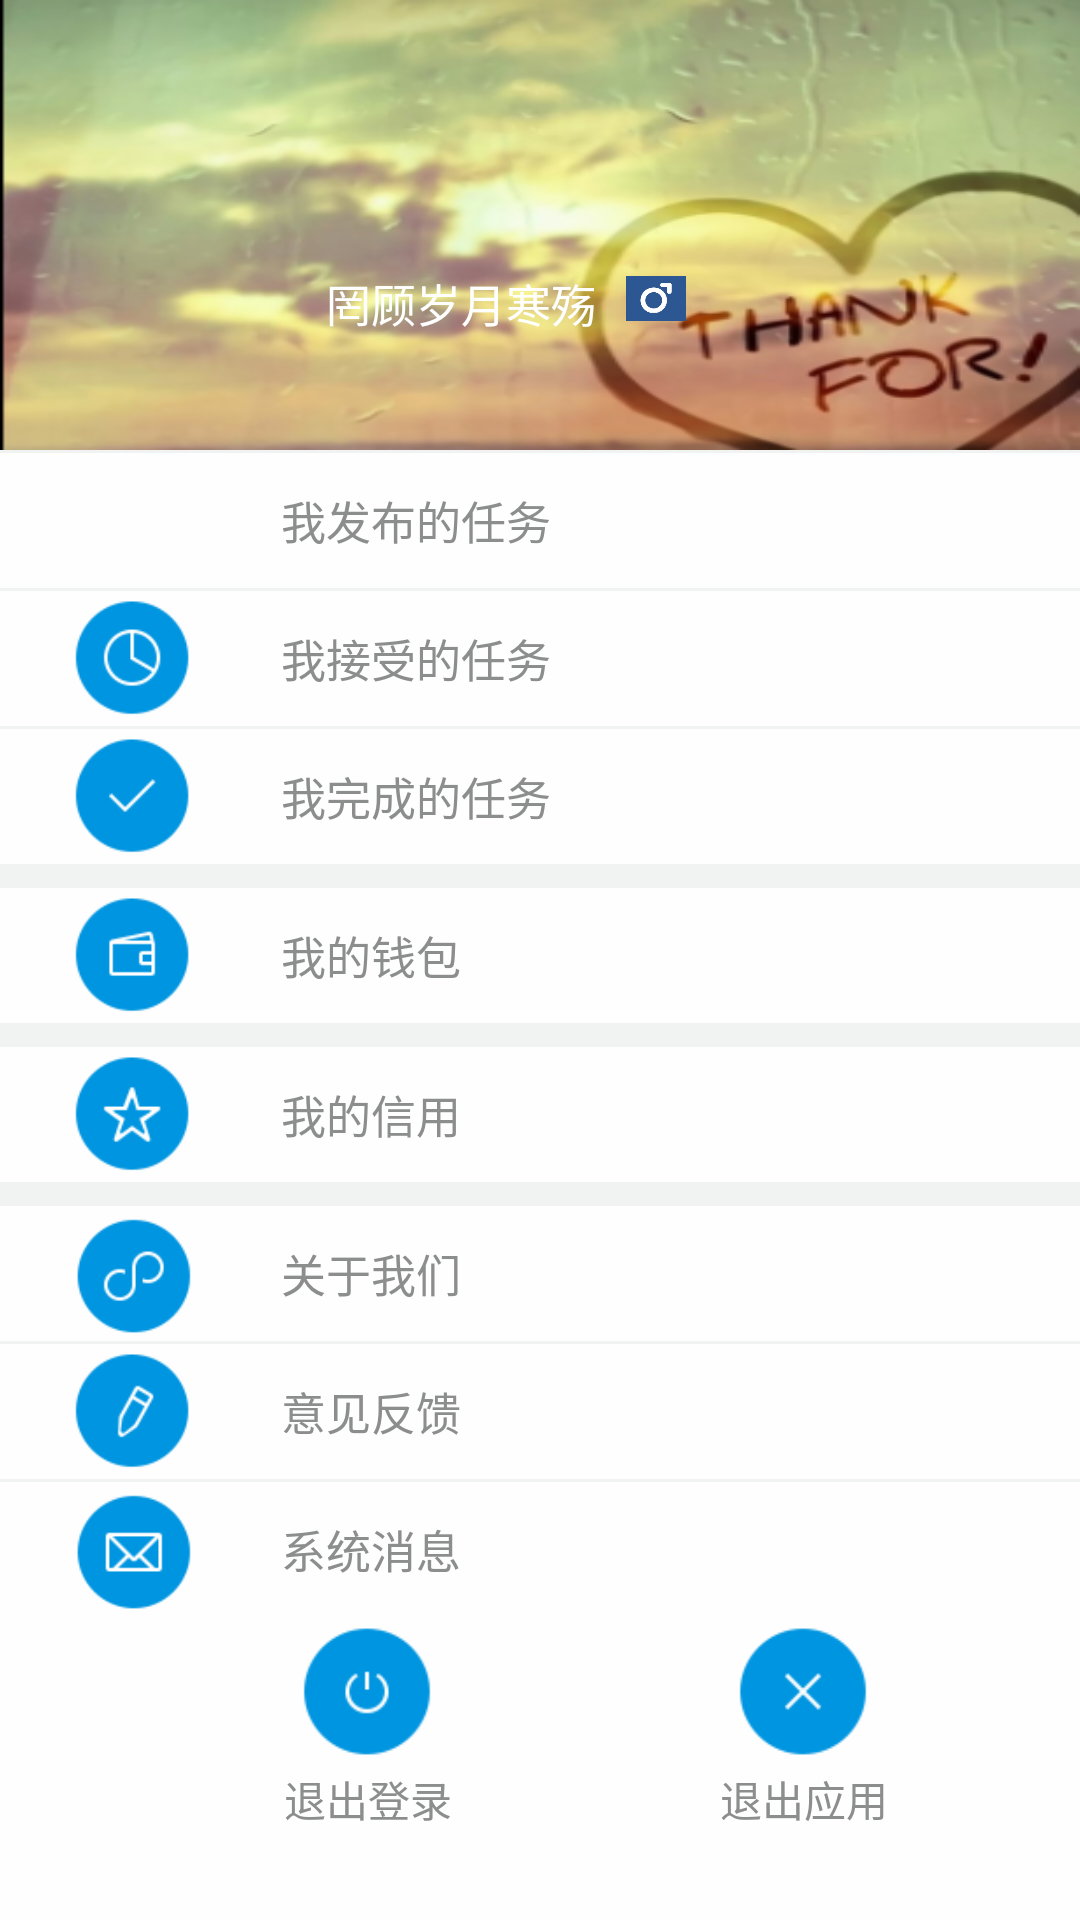

Icon click points for this 1080 x 1920 phone screenshot, format [x,y]:
left acceptedmission: [132,657]
left feedback: [132,1410]
left finishmission: [132,795]
left mymoney: [132,954]
left myvalunted: [132,1113]
left systemmessage: [134,1552]
man: [656,298]
